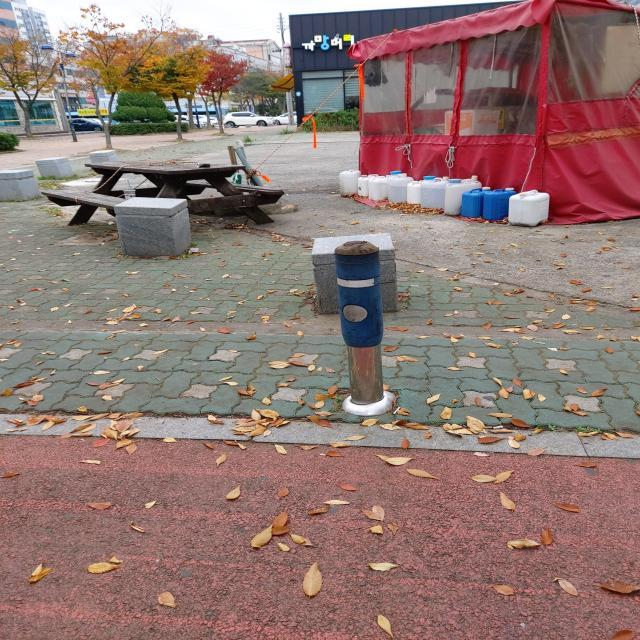pole: (333, 236, 397, 414)
